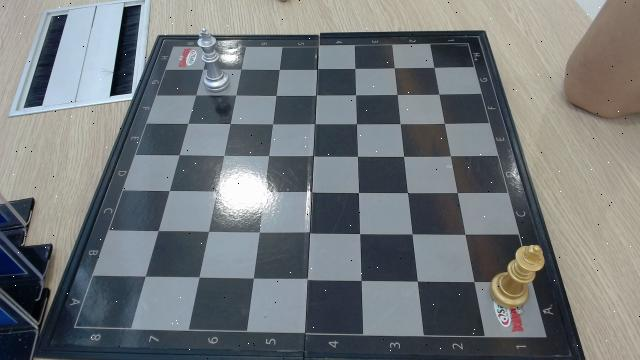black_king: (489, 244, 546, 307)
white_king: (197, 27, 229, 90)
